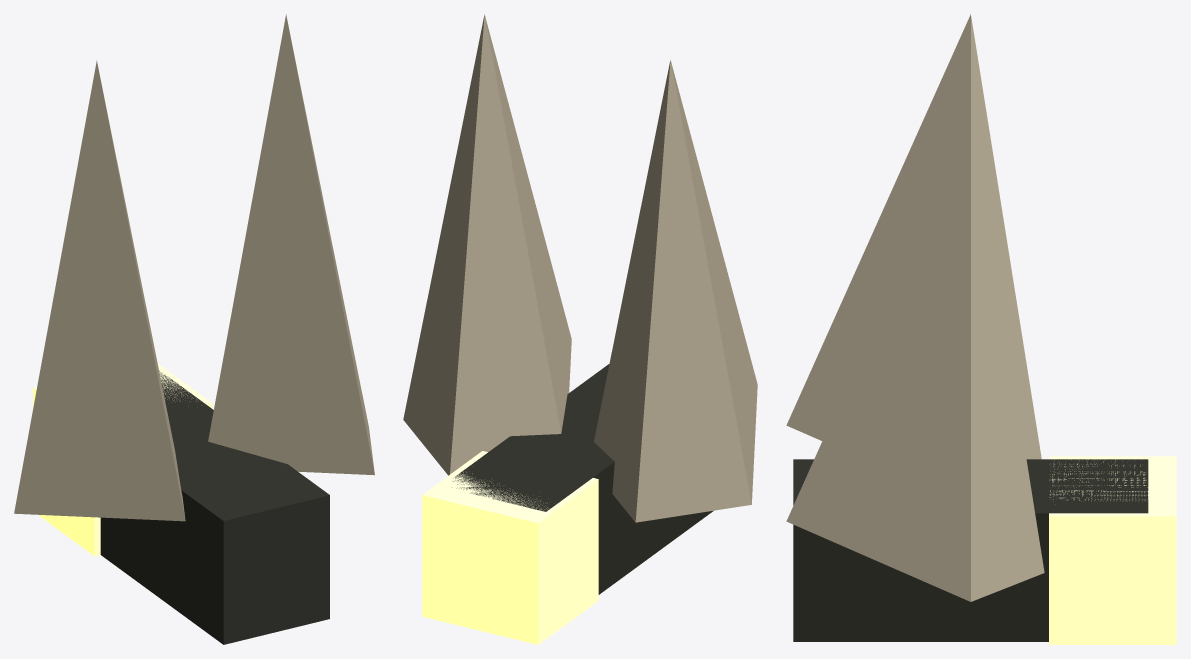
File: firefly.glb
3 views of the same model, side by side, from view 1: azimuth 30°, elevation 25°; view 2: azimuth 150°, elevation 25°; view 3: azimuth 270°, elevation 25° (orthographic). The views are drawn at different scales.
Parts seen in each view (by area): view 1: wing_left__wing, wing_right__wing, body__dark, abdomen__glow; view 2: wing_left__wing, wing_right__wing, abdomen__glow, body__dark; view 3: wing_right__wing, body__dark, wing_left__wing, abdomen__glow.
Boxes of the visible parts, x1,y1,x2,y2 form: wing_left__wing: (14, 60, 185, 521); wing_right__wing: (208, 14, 374, 475); body__dark: (100, 370, 329, 644); abdomen__glow: (33, 363, 212, 556); wing_left__wing: (594, 60, 757, 522); wing_right__wing: (403, 14, 571, 475); abdomen__glow: (422, 451, 598, 644); body__dark: (453, 364, 713, 594); wing_right__wing: (786, 110, 1044, 601); body__dark: (793, 459, 1148, 641); wing_left__wing: (786, 14, 1041, 459); abdomen__glow: (1049, 456, 1176, 644).
Size of the model in its own units: 0.03 by 0.043 by 0.0275.
